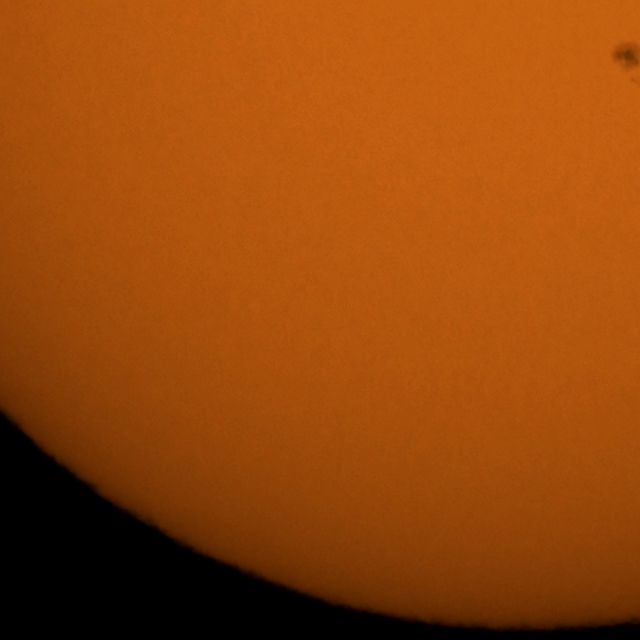sunspot: (610, 39, 640, 83), (630, 74, 640, 86)
